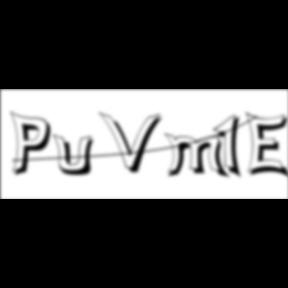1: (213, 114, 248, 182)
P: (10, 110, 58, 180)
V: (100, 110, 166, 176)
m: (164, 132, 232, 181)
u: (52, 132, 100, 178)
